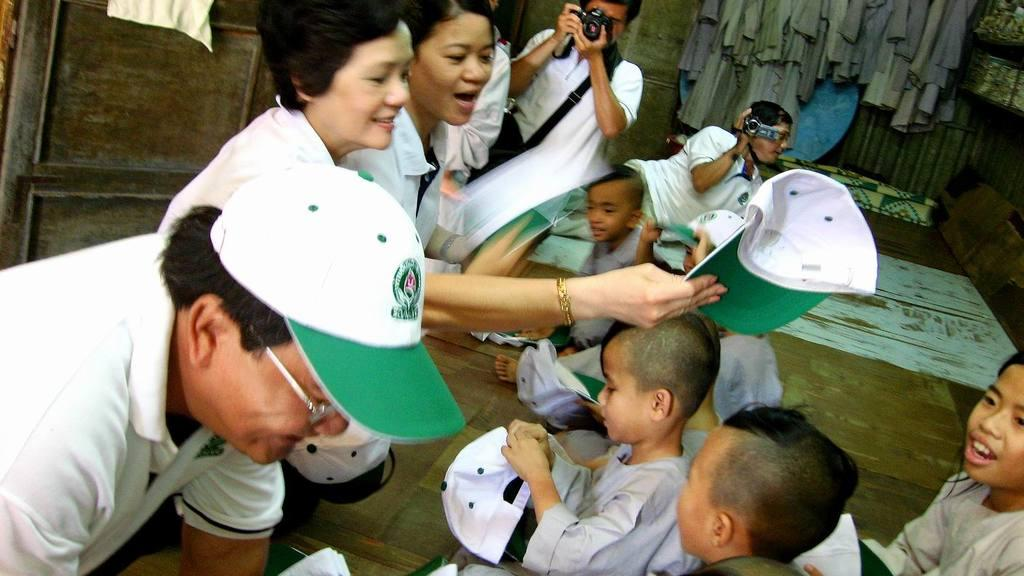Hat: (207, 166, 469, 437), (684, 169, 875, 340)
